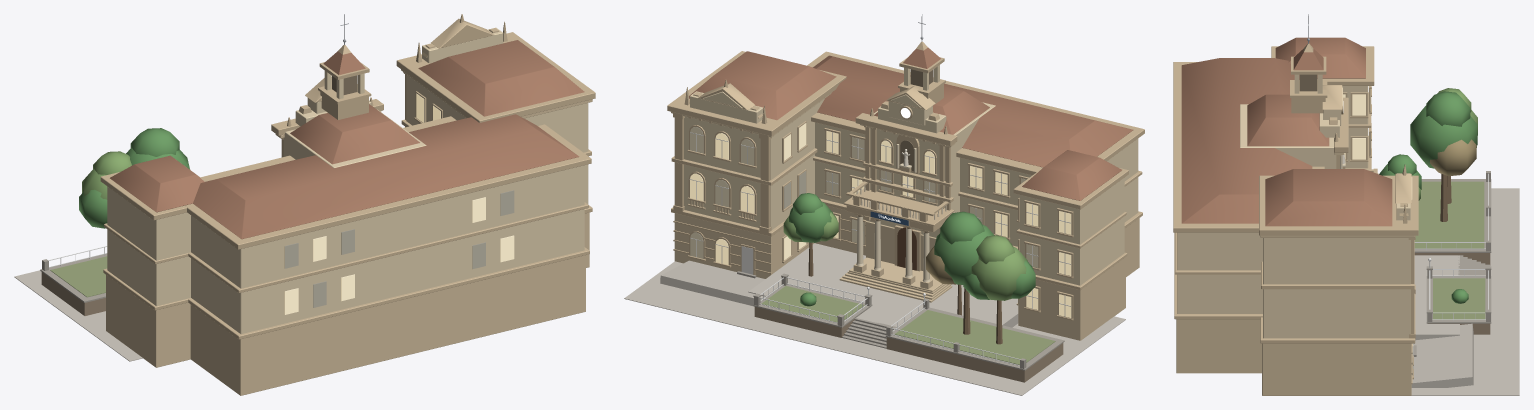
Rendered from uniacademia.glb.
3 renders of one model, left to right at view 1: azimuth 30°, elevation 25°; view 2: azimuth 150°, elevation 25°; view 3: azimuth 270°, elevation 25°, orthographic. The views are drawn at different scales.
Parts seen in each view (by area): view 1: CorpoPrincipal, PatioMurosArvores, JanelasFachada, OrnamentacaoTorre; view 2: CorpoPrincipal, PatioMurosArvores, JanelasFachada, OrnamentacaoTorre, PorticoEstatua; view 3: CorpoPrincipal, PatioMurosArvores, OrnamentacaoTorre, JanelasFachada.
Boxes of the visible parts, <box> form: CorpoPrincipal: <box>100,18,595,395</box>; PatioMurosArvores: <box>14,128,190,361</box>; JanelasFachada: <box>284,91,514,314</box>; OrnamentacaoTorre: <box>281,14,507,157</box>; CorpoPrincipal: <box>667,51,1144,340</box>; PatioMurosArvores: <box>624,193,1125,395</box>; JanelasFachada: <box>687,121,1073,320</box>; OrnamentacaoTorre: <box>673,14,950,274</box>; PorticoEstatua: <box>839,135,952,302</box>; CorpoPrincipal: <box>1173,37,1418,395</box>; PatioMurosArvores: <box>1379,88,1519,395</box>; OrnamentacaoTorre: <box>1290,14,1415,384</box>; JanelasFachada: <box>1343,86,1413,379</box>.
Size of the model in its own units: 49.05 by 30.75 by 34.3.
